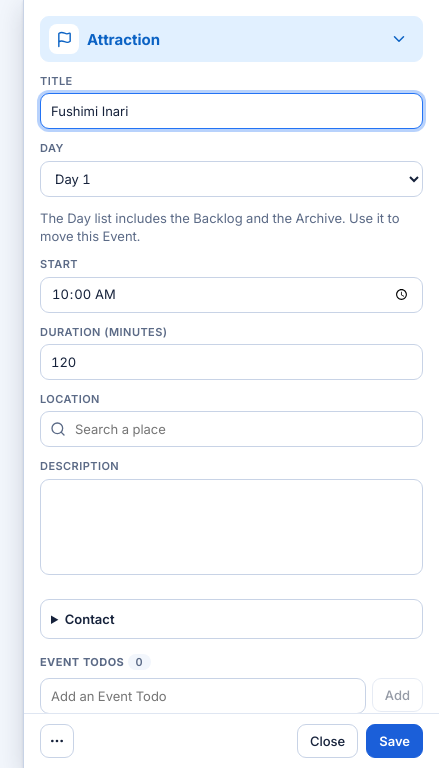
Test case: EventPanel on a phone › closes the menu when the panel body is tapped
Click the button named "More actions": coordinates (57, 741) left=40, top=724, right=74, bottom=758
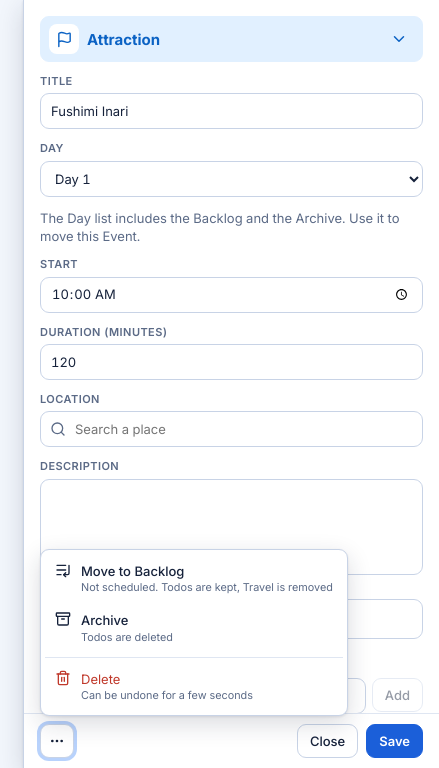
Press the mouse on the element that starts with "Title": coordinates (232, 388) left=24, top=62, right=438, bottom=713
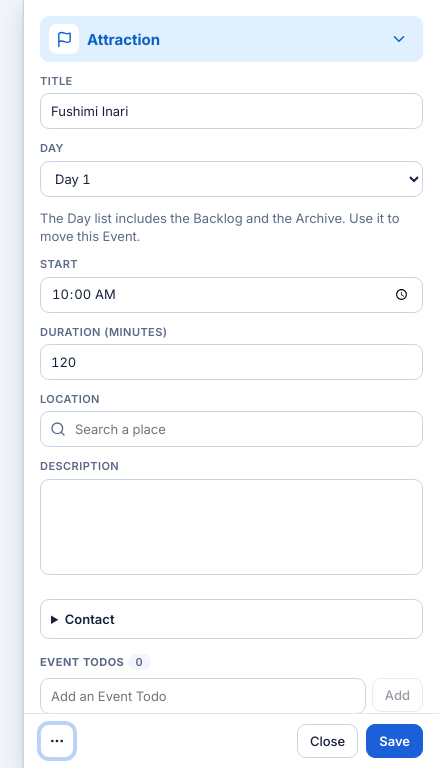
Expected: the menu item "Can be undone for a few seconds" is gone
